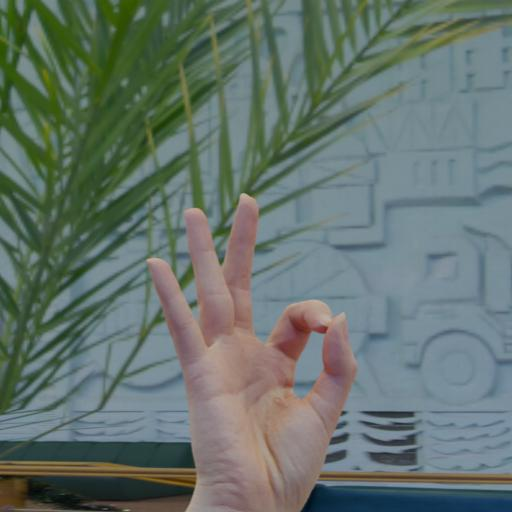F: (146, 187, 358, 512)
